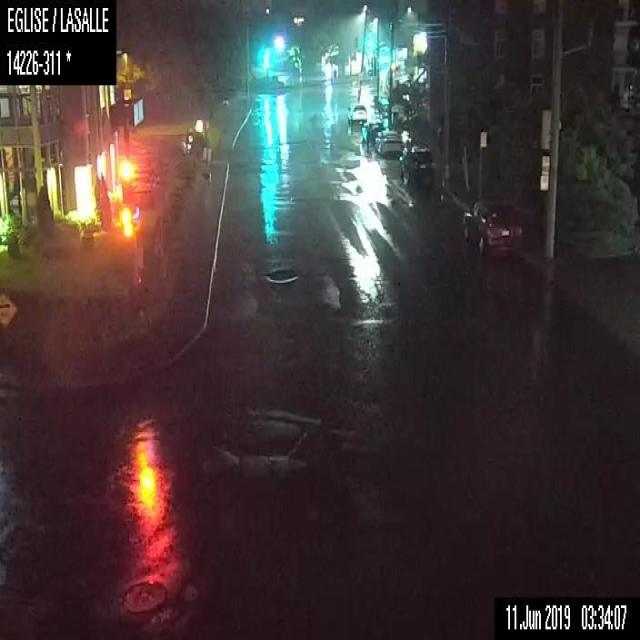pedestrian: (201, 119, 214, 182)
vehicle: (462, 196, 524, 256), (398, 143, 433, 188), (374, 127, 402, 156), (362, 117, 384, 145), (346, 102, 367, 125)
